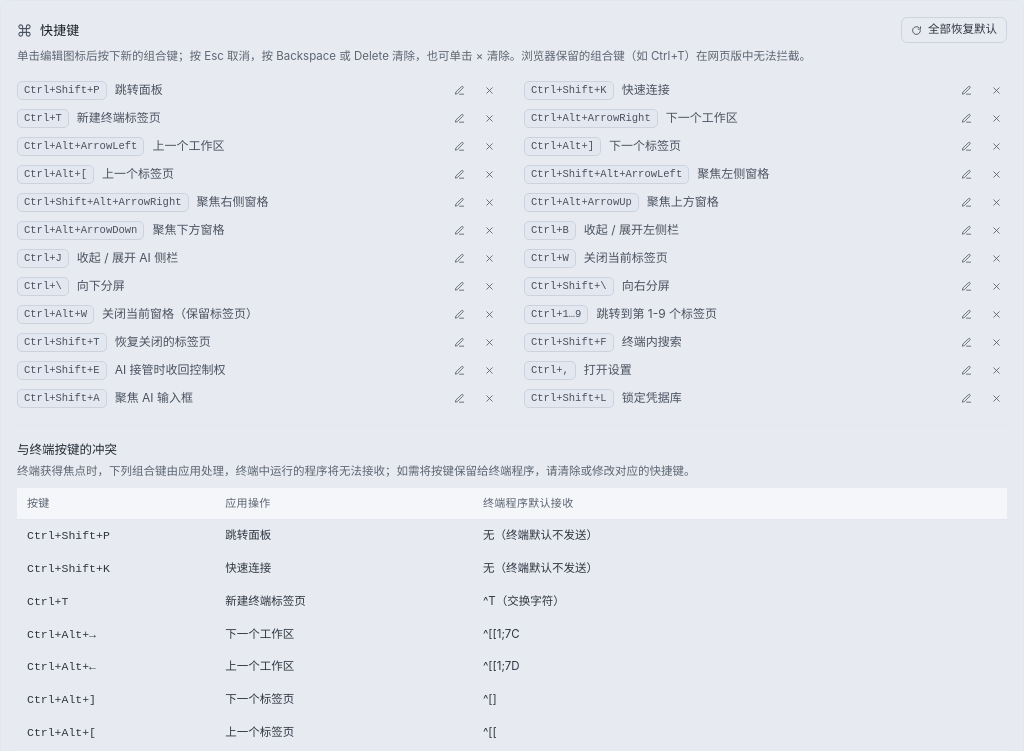
shortcuts editor › flags conflicts with the other action and explains resolution
Click the button named "修改快捷键：跳转面板".
click(459, 90)  # box [448,79,470,101]
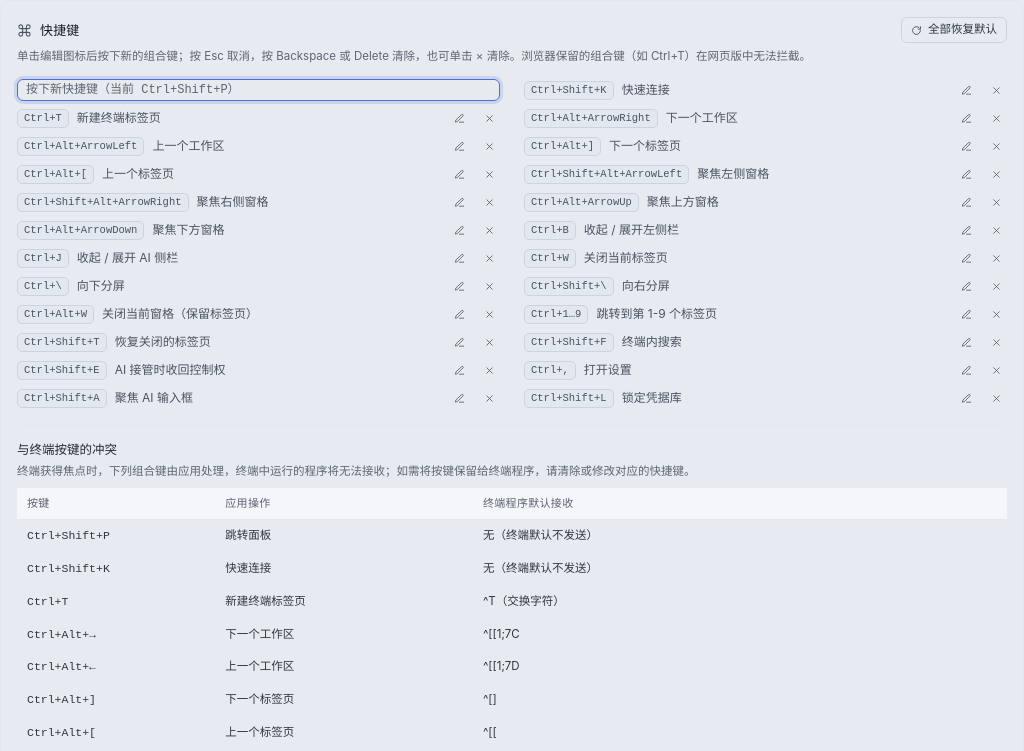
Press t in the field with placeholder "按下新快捷键（当前 Ctrl+Shift+P）", box [17,79,500,101]
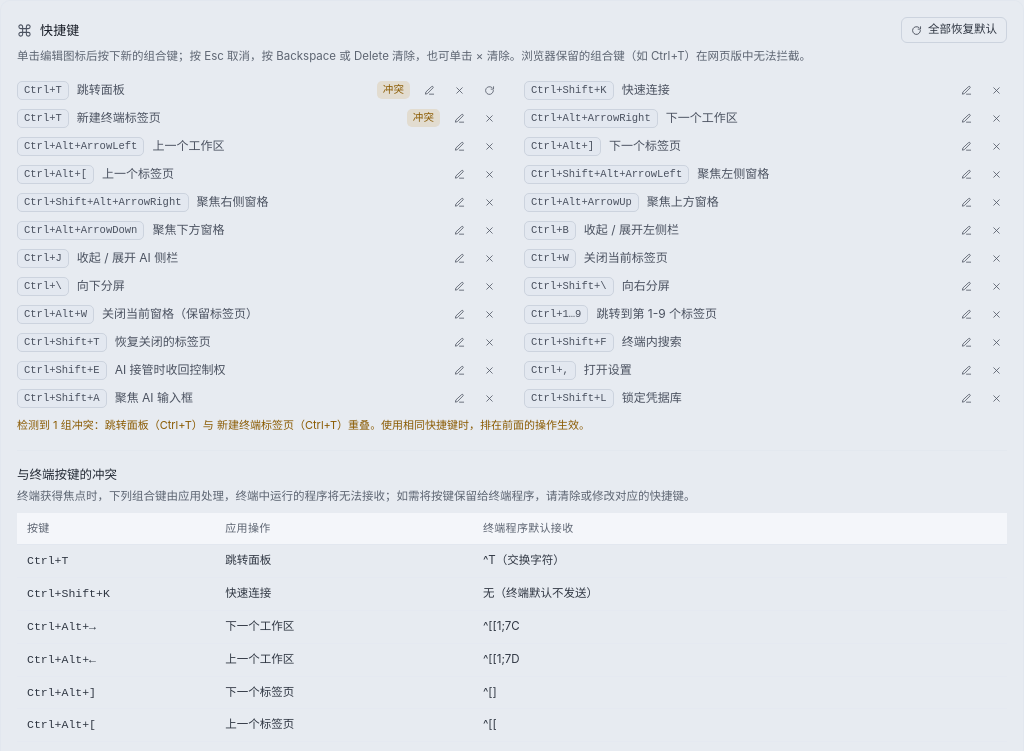
Expected: the 1st text with class "nx-badge-amber" reads "冲突", [383,83,404,96]
Expected: the 2nd text with class "nx-badge-amber" is shown, [407,109,440,127]
Expected: the text "排在前面的操作生效" is shown, [370,418,590,432]
